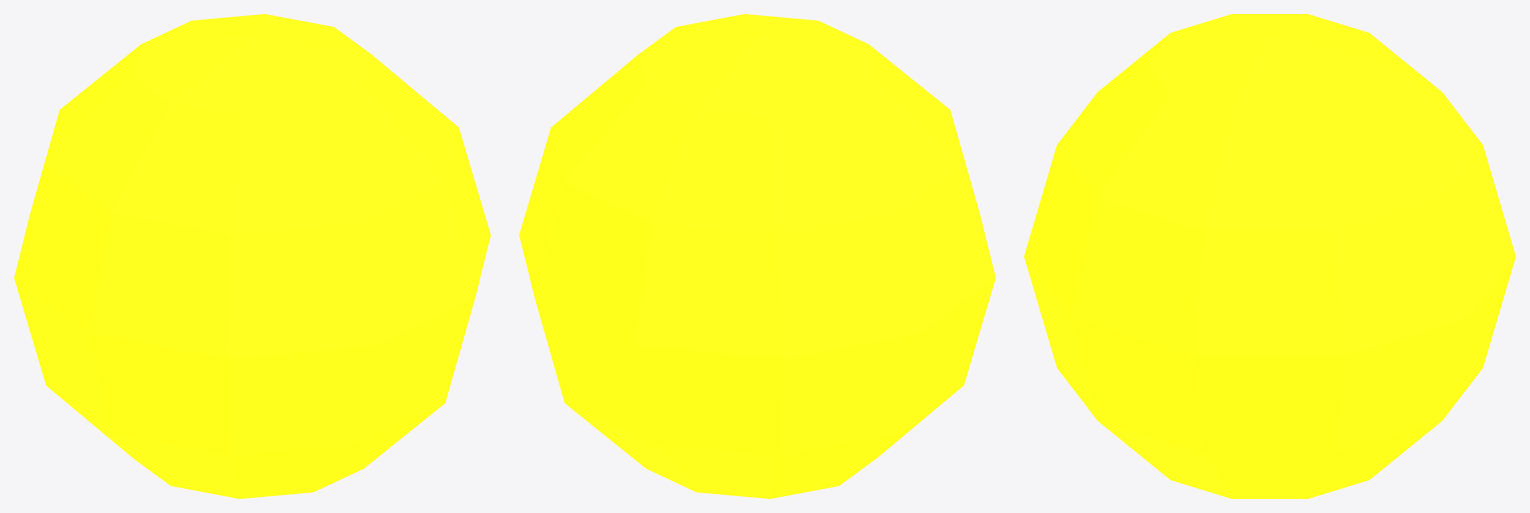
Rendered from 发光小球.fbx.
3 renders of one model, left to right at view 1: azimuth 30°, elevation 25°; view 2: azimuth 150°, elevation 25°; view 3: azimuth 270°, elevation 25°, orthographic.
Parts seen in each view (by area): view 1: 球体.002; view 2: 球体.002; view 3: 球体.002.
Boxes of the visible parts, x1=… form: 球体.002: x1=14, y1=14, x2=490, y2=498; 球体.002: x1=519, y1=14, x2=995, y2=498; 球体.002: x1=1024, y1=14, x2=1515, y2=498.
Bounding box in the file's own units: 130 × 137 × 137.
